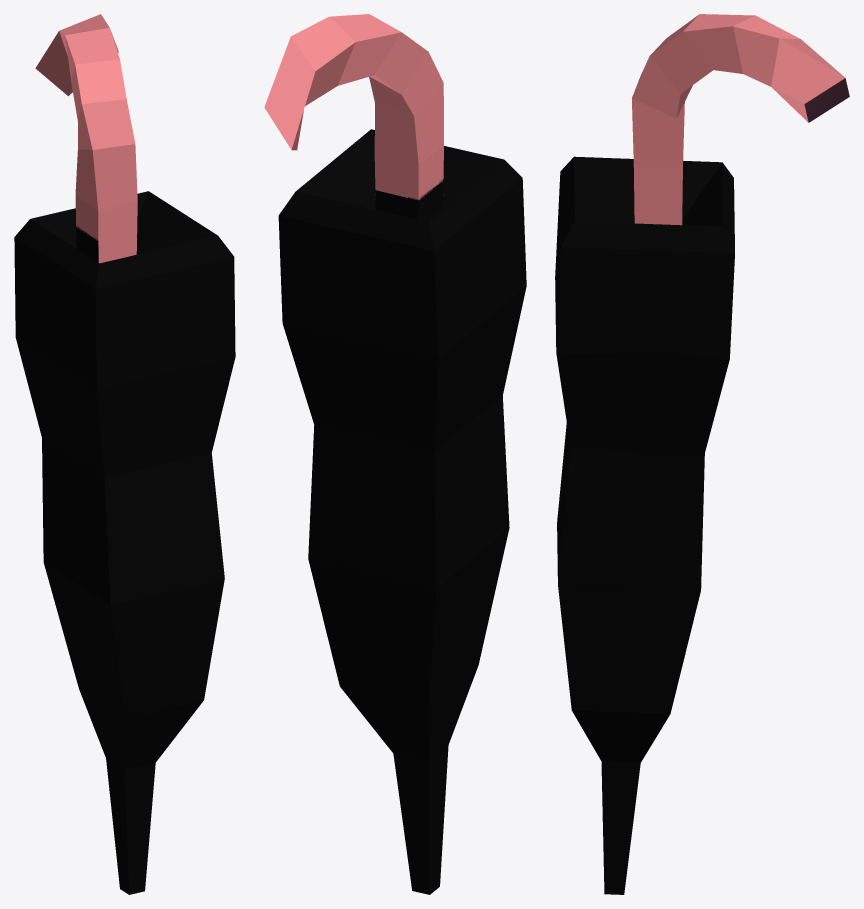
File: Umbrella.fbx
3 views of the same model, side by side, from view 1: azimuth 30°, elevation 25°; view 2: azimuth 150°, elevation 25°; view 3: azimuth 270°, elevation 25° (orthographic). The views are drawn at different scales.
Visible parts, largest first — view 1: Cube; view 2: Cube; view 3: Cube.
Boxes of the visible parts, <box> form: Cube: <box>14,14,235,894</box>; Cube: <box>264,14,526,894</box>; Cube: <box>555,14,849,894</box>.
Size of the model in its own units: 36.32 by 200 by 60.66.
Materials: 1 (1 with a texture image).
